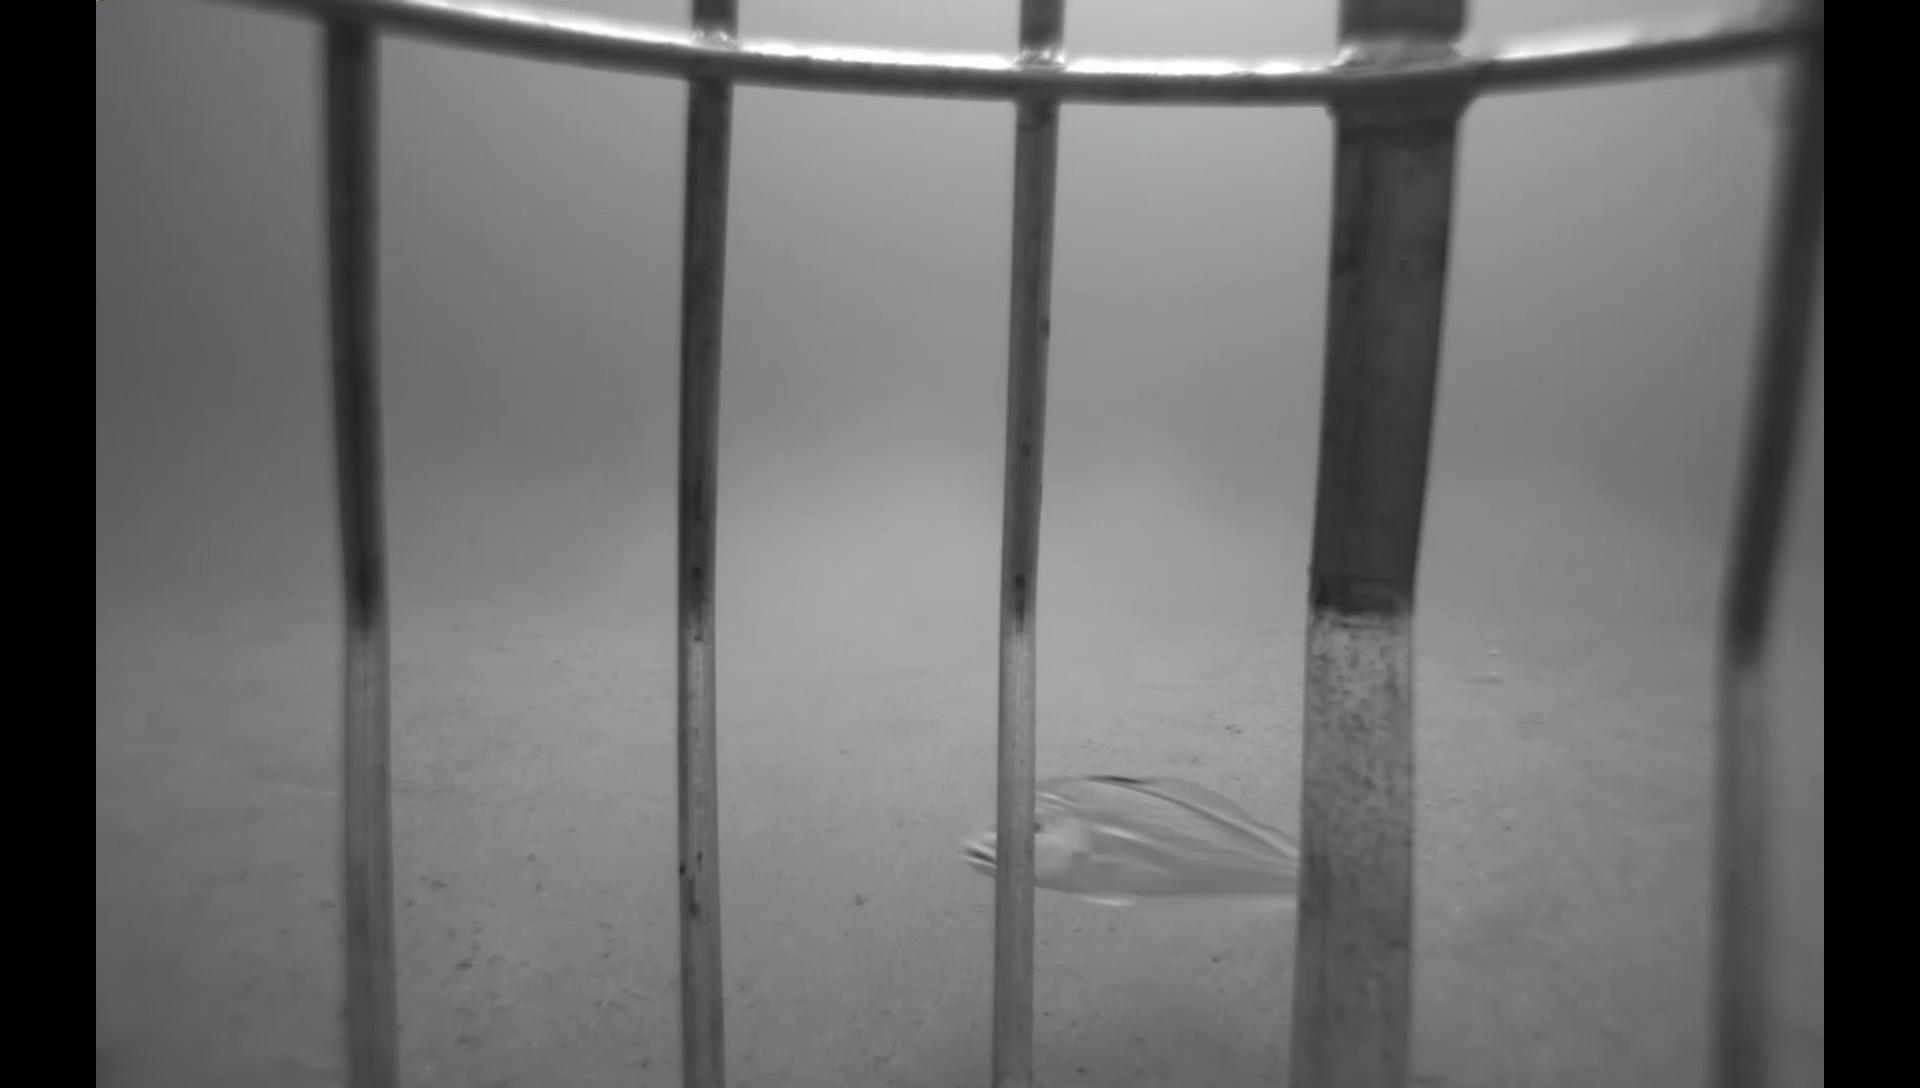CAULOLATILUSCYANOPS-170070101: (943, 758, 1298, 930)
SYACIUM-183011000: (1141, 699, 1247, 742)
